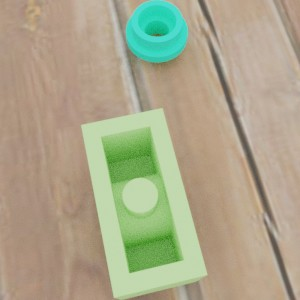lego: (81, 108, 207, 299), (125, 0, 187, 62)
